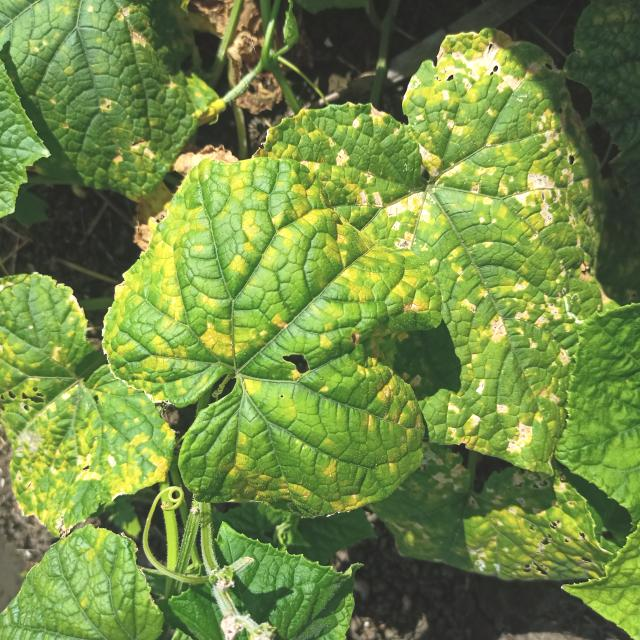disease_cucumber: (105, 159, 439, 516), (401, 41, 610, 440), (0, 359, 178, 529), (395, 439, 614, 573)
